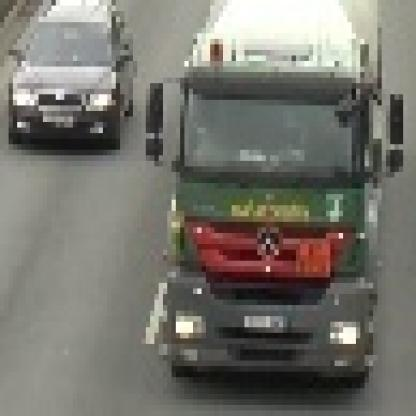truck: (143, 1, 404, 384)
